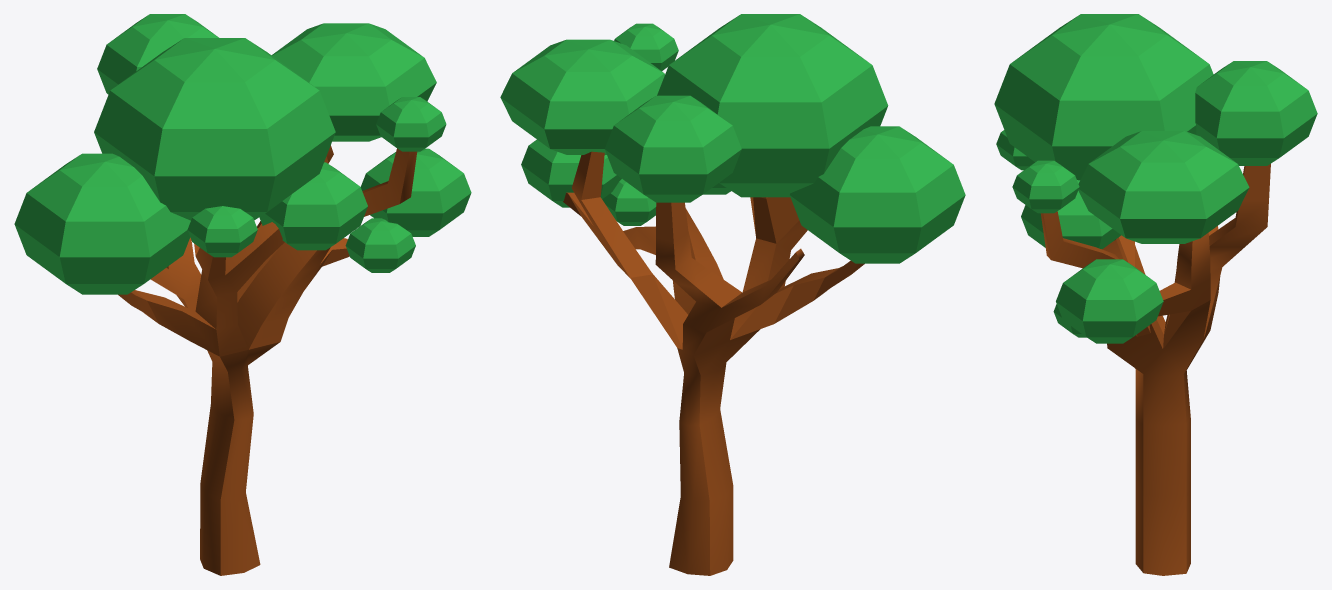
The model's file is arbol1.fbx.
3 renders of one model, left to right at view 1: azimuth 30°, elevation 25°; view 2: azimuth 150°, elevation 25°; view 3: azimuth 270°, elevation 25°, orthographic. The views are drawn at different scales.
Parts seen in each view (by area): view 1: Sphere.002, pCube1, Sphere, Sphere.001, Sphere.003, Sphere.004, Sphere.007, Sphere.008, Sphere.005, Sphere.006; view 2: pCube1, Sphere.002, Sphere, Sphere.001, Sphere.007, Sphere.004, Sphere.008, Sphere.005; view 3: pCube1, Sphere.002, Sphere.001, Sphere.007, Sphere.004, Sphere.008, Sphere.003, Sphere.006.
Boxes of the visible parts, x1=… form: Sphere.002: x1=94, y1=38, x2=335, y2=220; pCube1: x1=118, y1=145, x2=417, y2=575; Sphere: x1=14, y1=153, x2=190, y2=294; Sphere.001: x1=271, y1=23, x2=436, y2=141; Sphere.003: x1=259, y1=162, x2=367, y2=250; Sphere.004: x1=361, y1=148, x2=471, y2=236; Sphere.007: x1=97, y1=14, x2=218, y2=94; Sphere.008: x1=376, y1=97, x2=446, y2=151; Sphere.005: x1=345, y1=218, x2=415, y2=272; Sphere.006: x1=187, y1=206, x2=257, y2=257; pCube1: x1=563, y1=151, x2=864, y2=575; Sphere.002: x1=657, y1=14, x2=888, y2=197; Sphere: x1=789, y1=126, x2=965, y2=263; Sphere.001: x1=500, y1=39, x2=664, y2=154; Sphere.007: x1=605, y1=95, x2=741, y2=202; Sphere.004: x1=521, y1=139, x2=621, y2=207; Sphere.008: x1=614, y1=23, x2=678, y2=70; Sphere.005: x1=602, y1=179, x2=656, y2=225; pCube1: x1=1040, y1=164, x2=1270, y2=575; Sphere.002: x1=994, y1=14, x2=1213, y2=180; Sphere.001: x1=1078, y1=131, x2=1249, y2=243; Sphere.007: x1=1195, y1=61, x2=1317, y2=165; Sphere.004: x1=1056, y1=259, x2=1163, y2=343; Sphere.008: x1=1012, y1=160, x2=1079, y2=213; Sphere.003: x1=1021, y1=180, x2=1121, y2=249; Sphere.006: x1=996, y1=130, x2=1034, y2=170.
Size of the model in its own units: 177 by 219 by 124.
